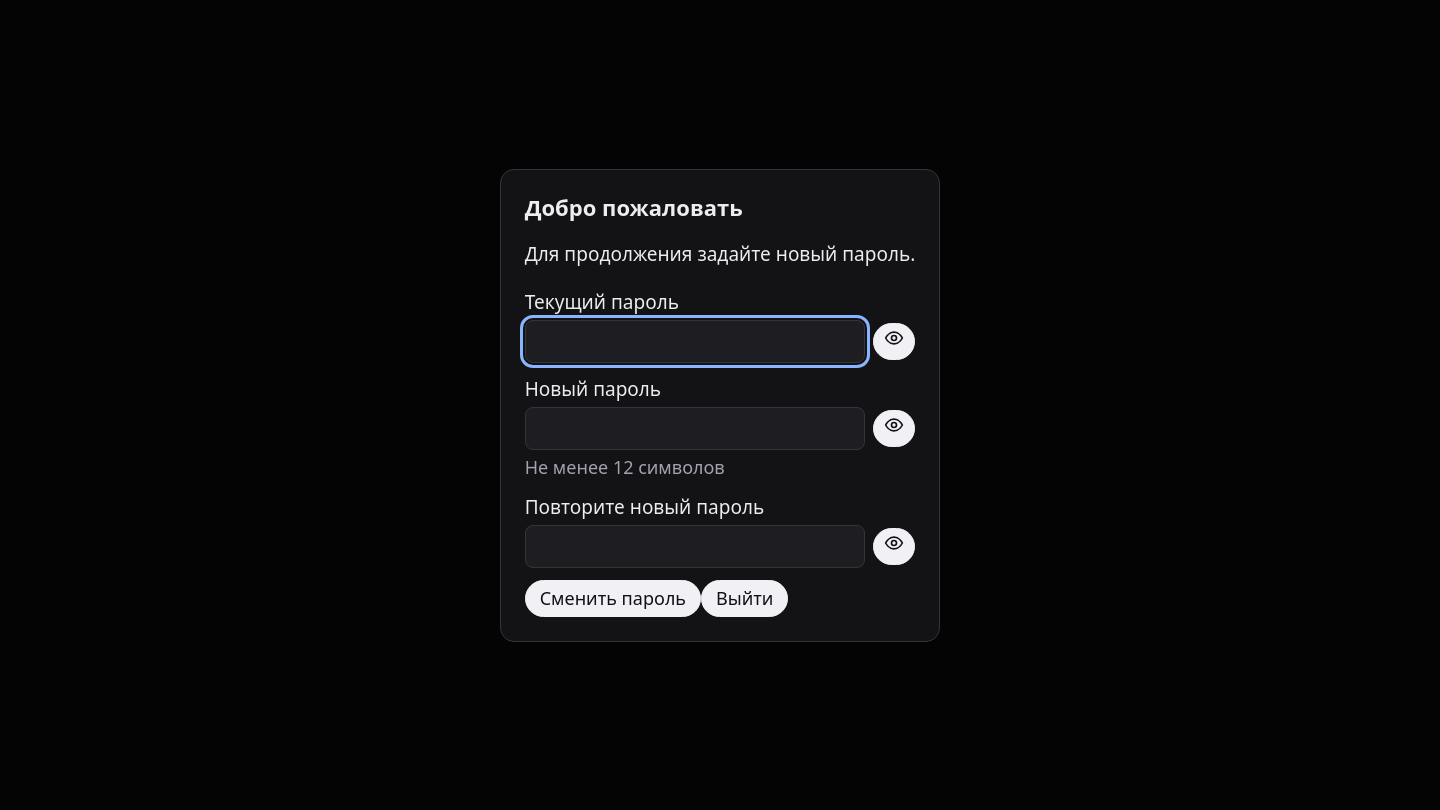
006 password reveal in the modal › ac7_server_422_hides_all_three_fields_and_keeps_values
The image size is (1440, 810).
In the password field labelled "Текущий пароль": (695, 341) 525,320 -> 865,362, type "One-Time-Pass-123"
In the password field labelled "Новый пароль": (695, 428) 525,407 -> 865,450, type "Brand-New-Passw0rd!"
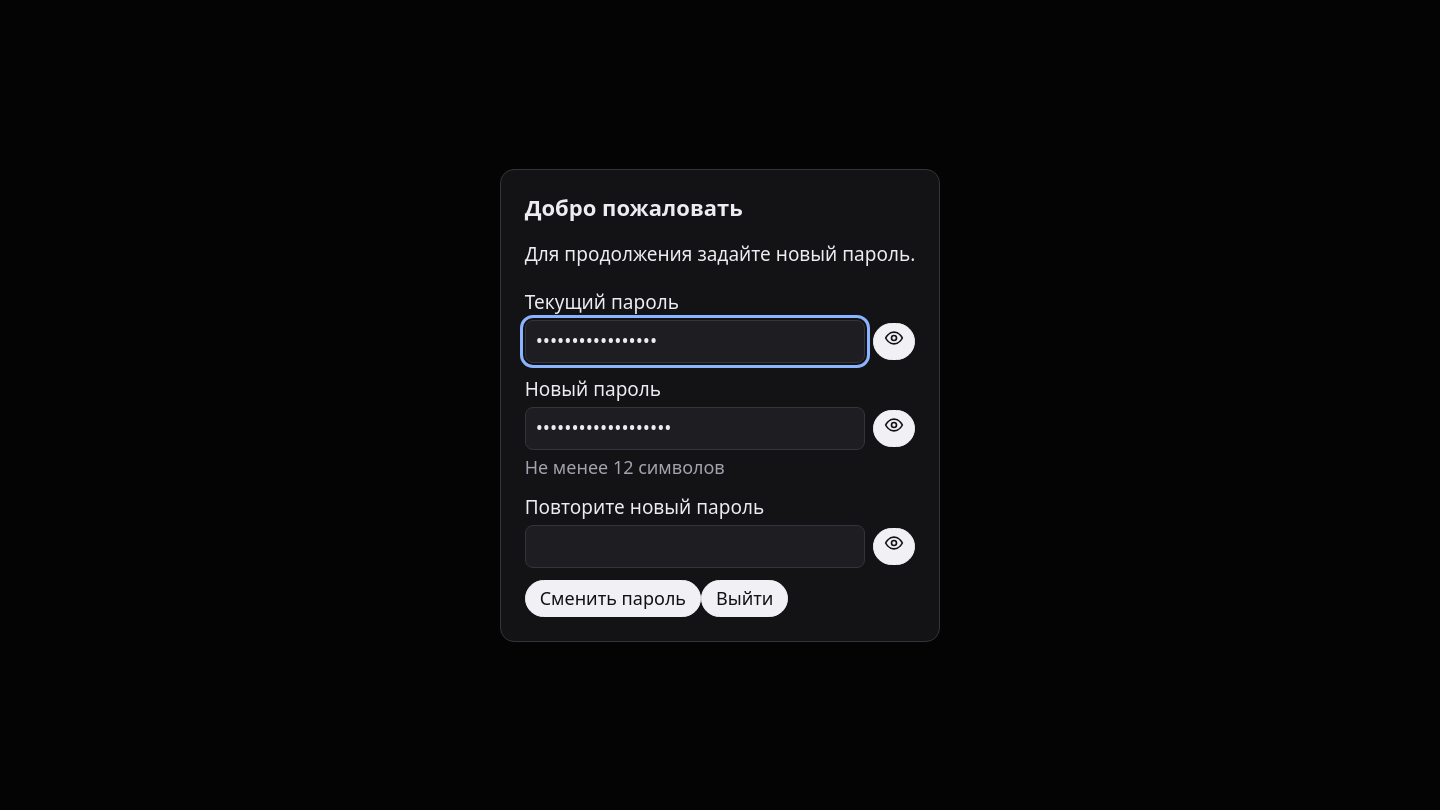
In the password field labelled "Повторите новый пароль": (695, 546) 525,525 -> 865,568, type "Brand-New-Passw0rd!"
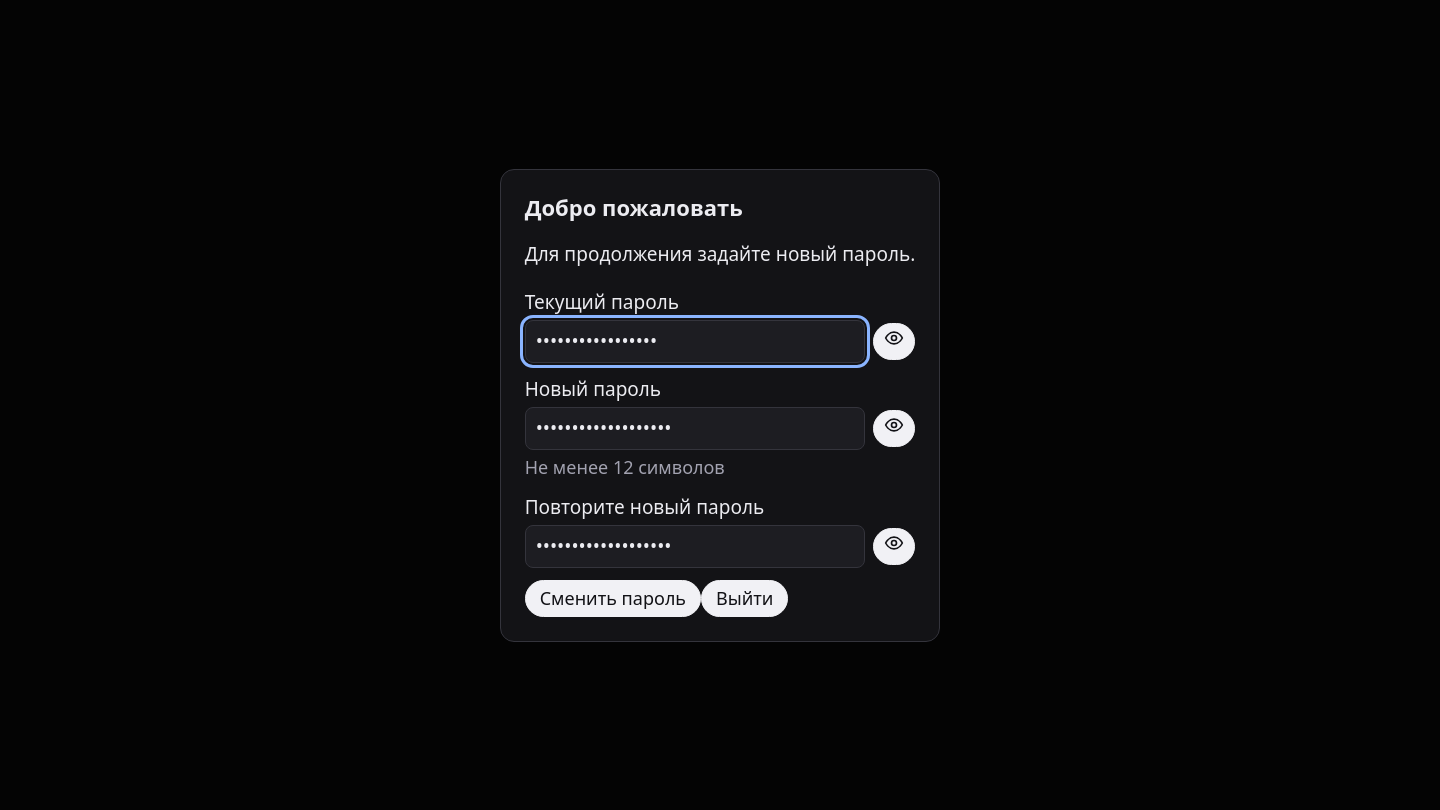
Click the button named "Показать текущий пароль": (894, 341) 873,323 -> 915,360
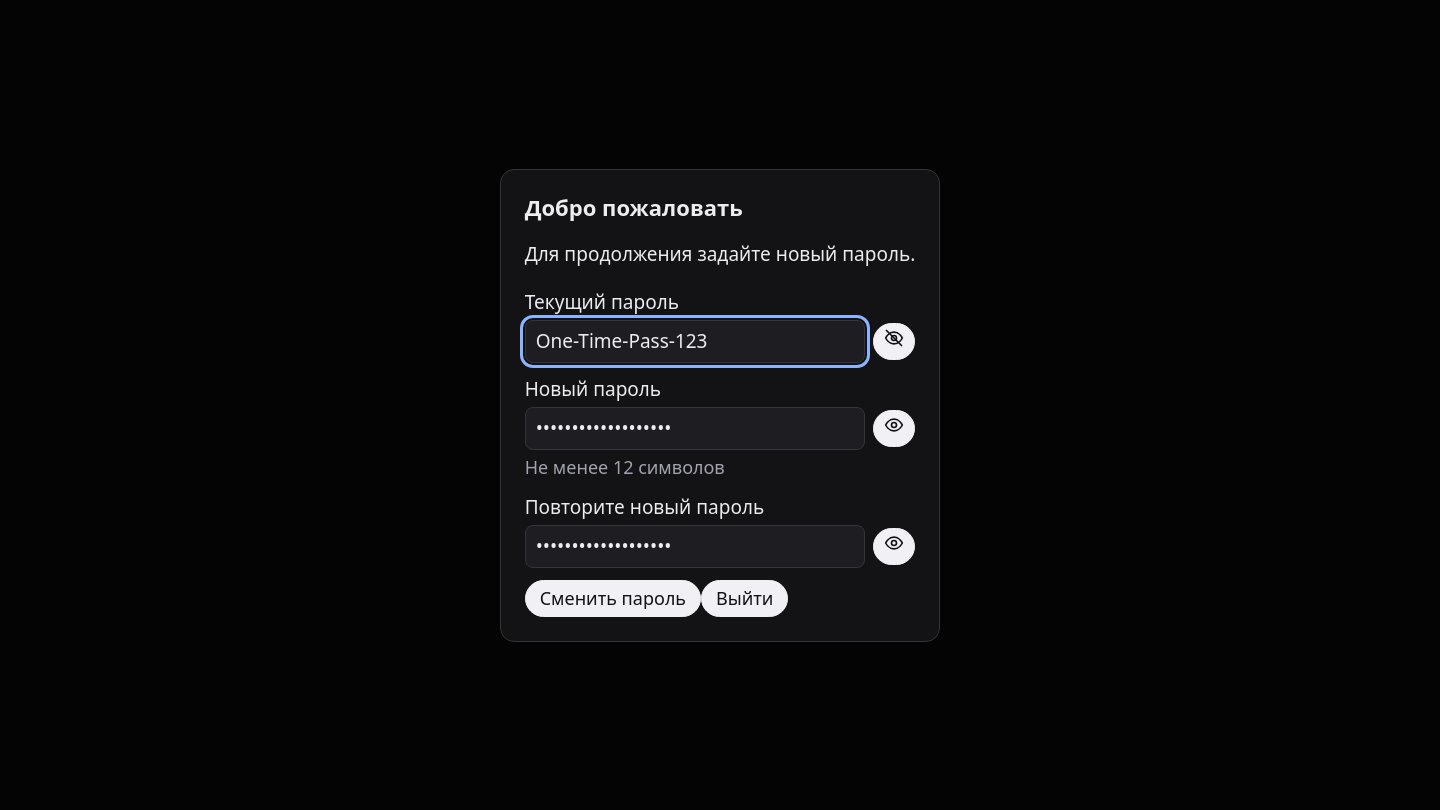
Click the button named "Показать новый пароль": (894, 428) 873,410 -> 915,447
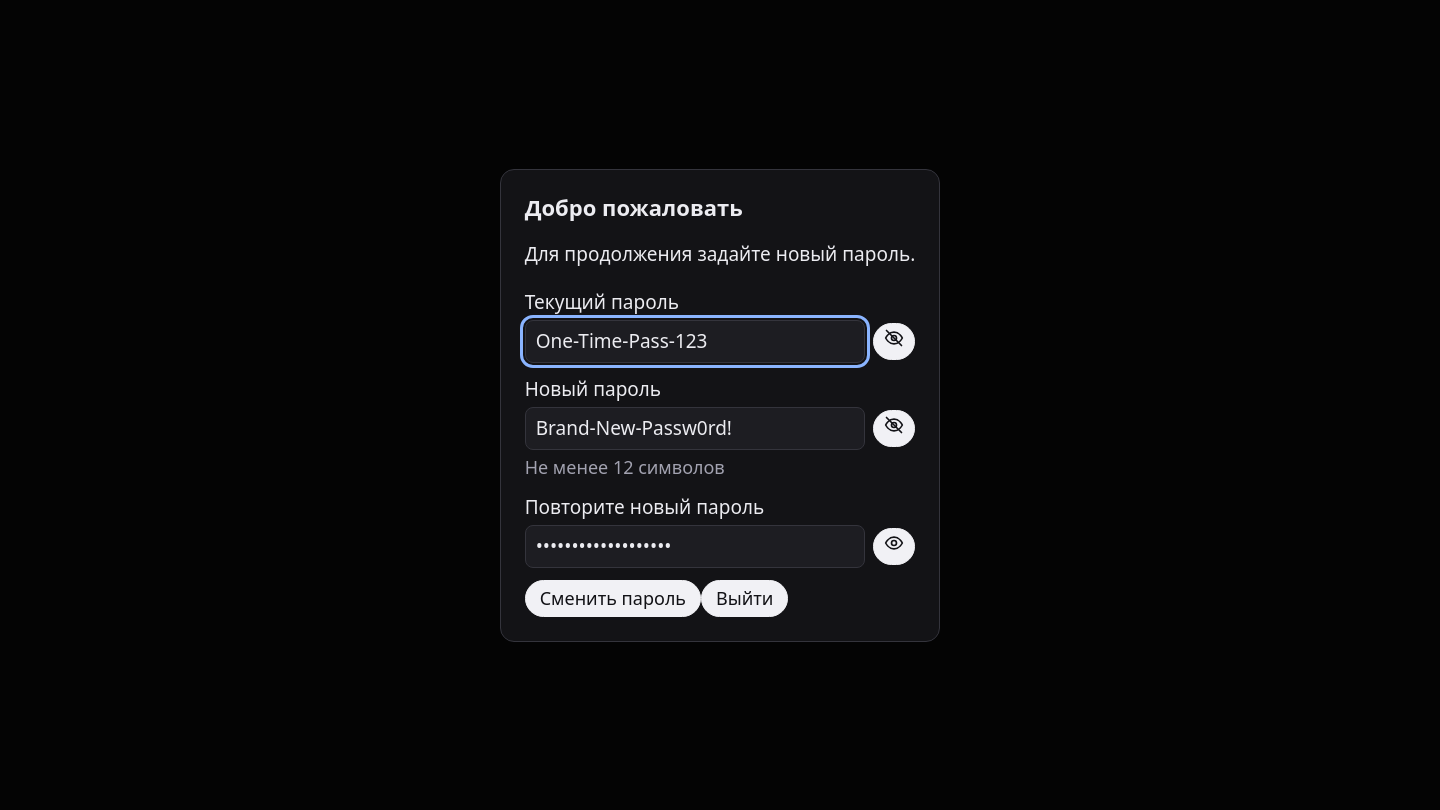
Click the button named "Показать повтор нового пароля": (894, 546) 873,528 -> 915,565
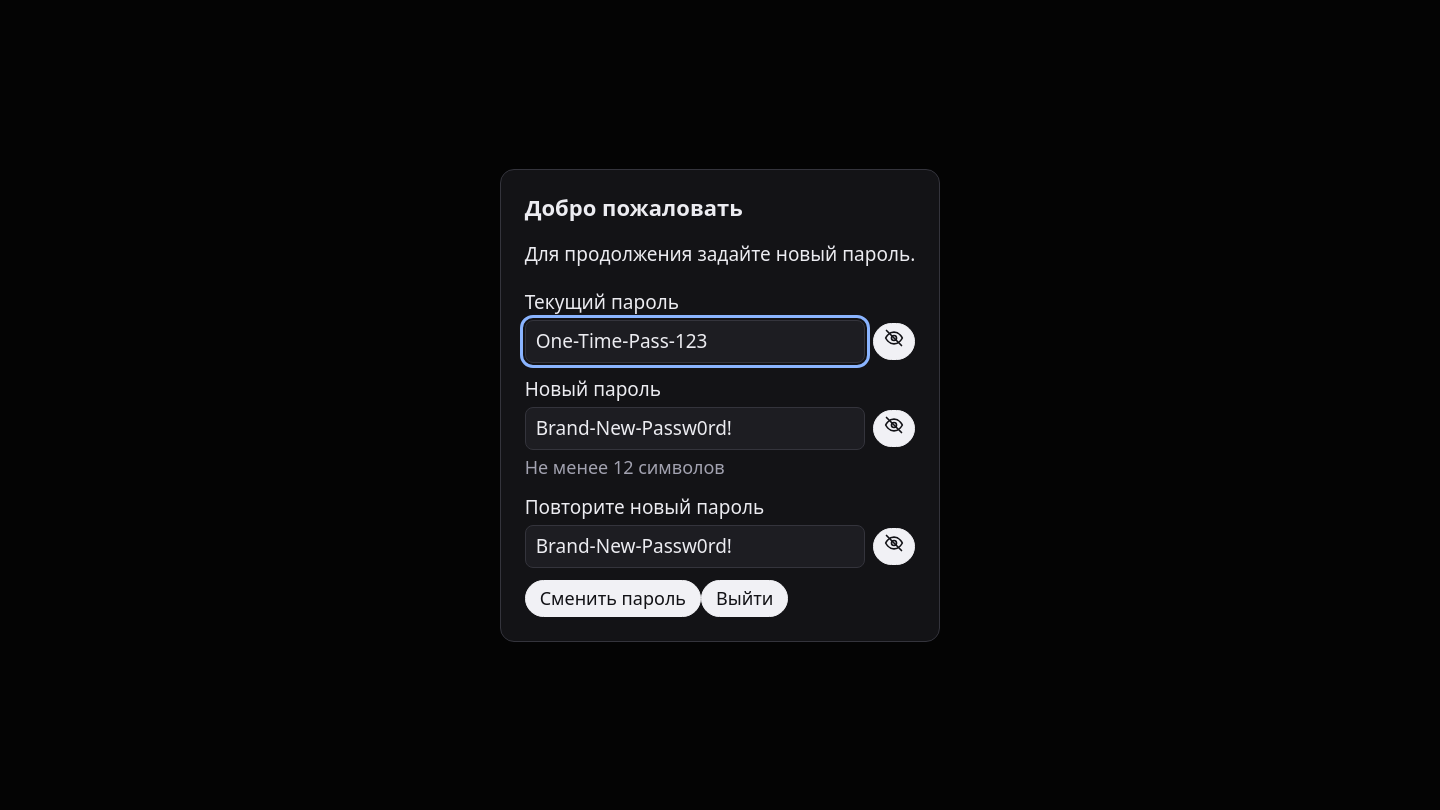
Click the button "Сменить пароль": (613, 598) 525,580 -> 701,616
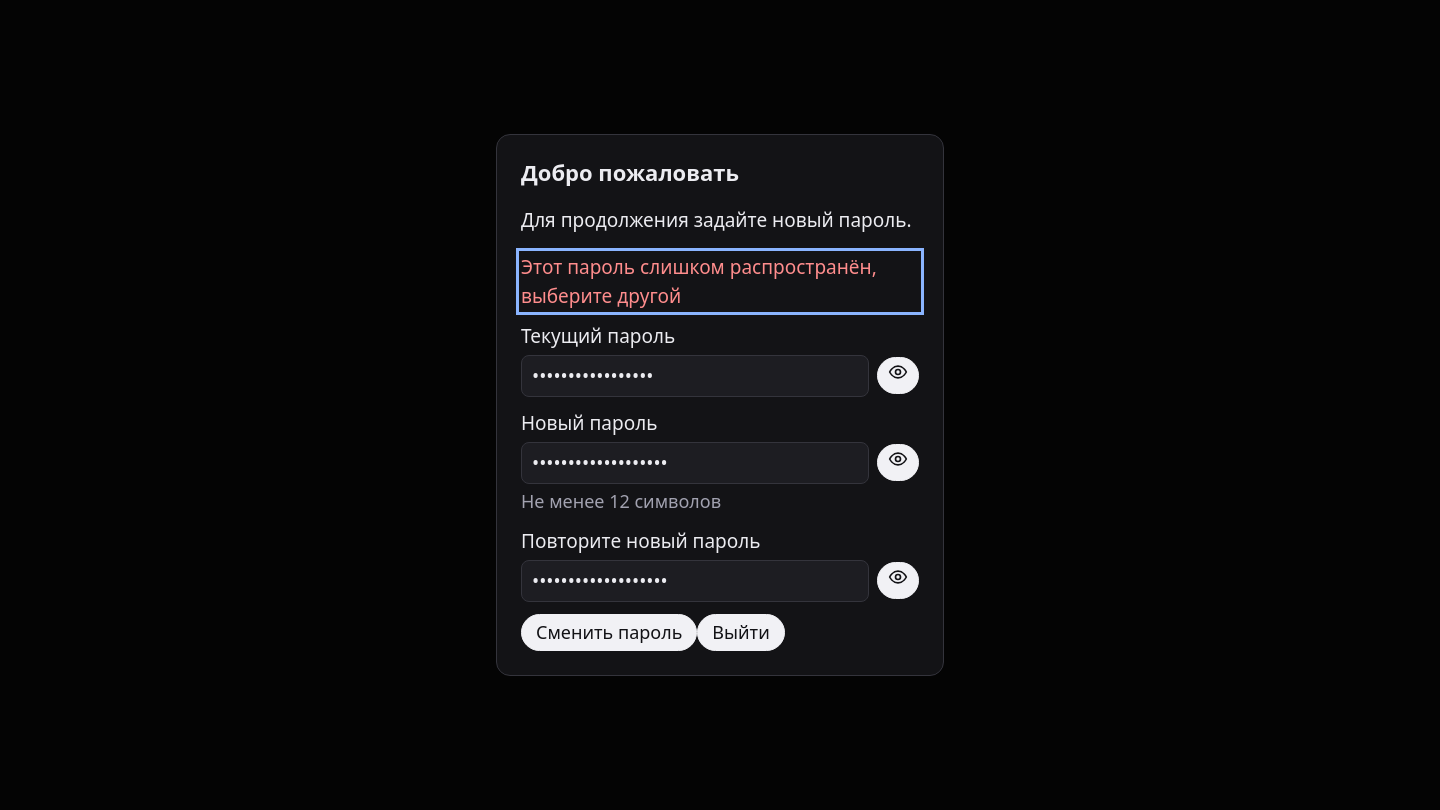
Now the message reads "Этот пароль слишком распространён, выберите другой", box 521,254 -> 877,308
